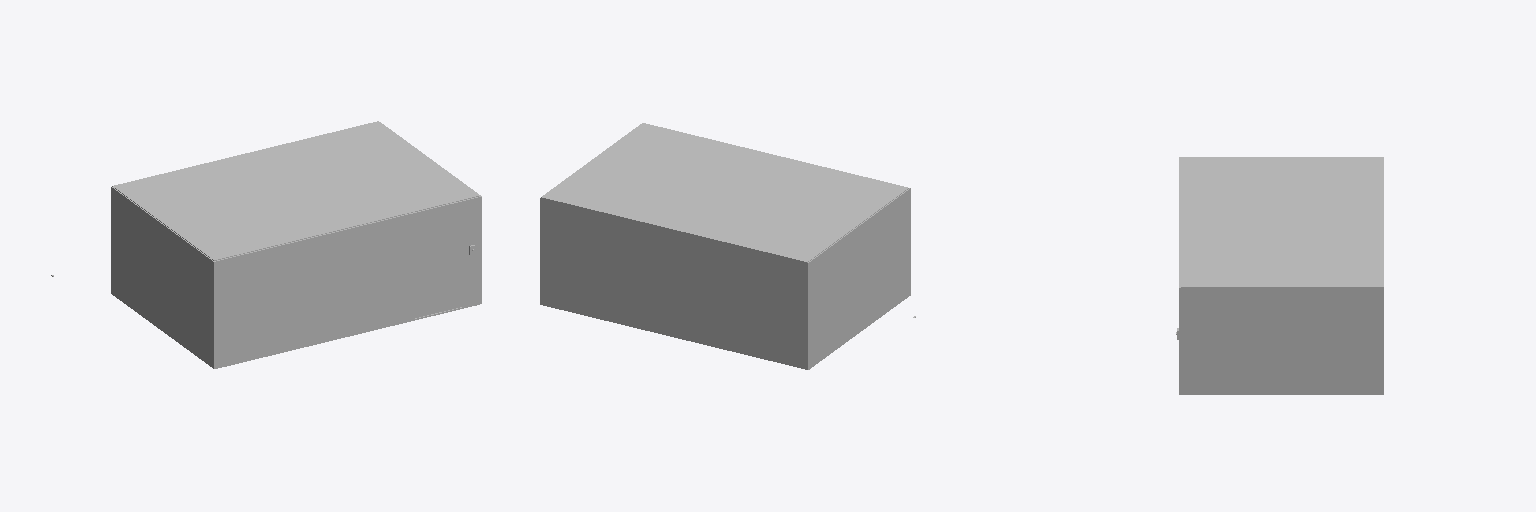
The model's file is SecurityRoom.obj.
3 views of the same model, side by side, from view 1: azimuth 30°, elevation 25°; view 2: azimuth 150°, elevation 25°; view 3: azimuth 270°, elevation 25° (orthographic).
Visible parts, largest first — view 1: Roof_Cube.024, LongLeftWall_Cube.002, ShortWall_Cube.003, Door_Cube.019; view 2: LongLeftWall.001_Cube.017, Roof_Cube.024, ShortWall_Cube.003; view 3: Roof_Cube.024, ShortWall.001_Cube.018.
Part boxes in pixels (x1,y1,x2,y2): Roof_Cube.024: (112,121,479,260); LongLeftWall_Cube.002: (212,196,481,368); ShortWall_Cube.003: (114,188,212,366); Door_Cube.019: (415,221,461,317); LongLeftWall.001_Cube.017: (540,198,810,369); Roof_Cube.024: (541,123,908,262); ShortWall_Cube.003: (809,188,909,367); Roof_Cube.024: (1181,157,1383,287); ShortWall.001_Cube.018: (1180,286,1380,394).
Size of the model in its own units: 38.4 by 11.33 by 19.72.